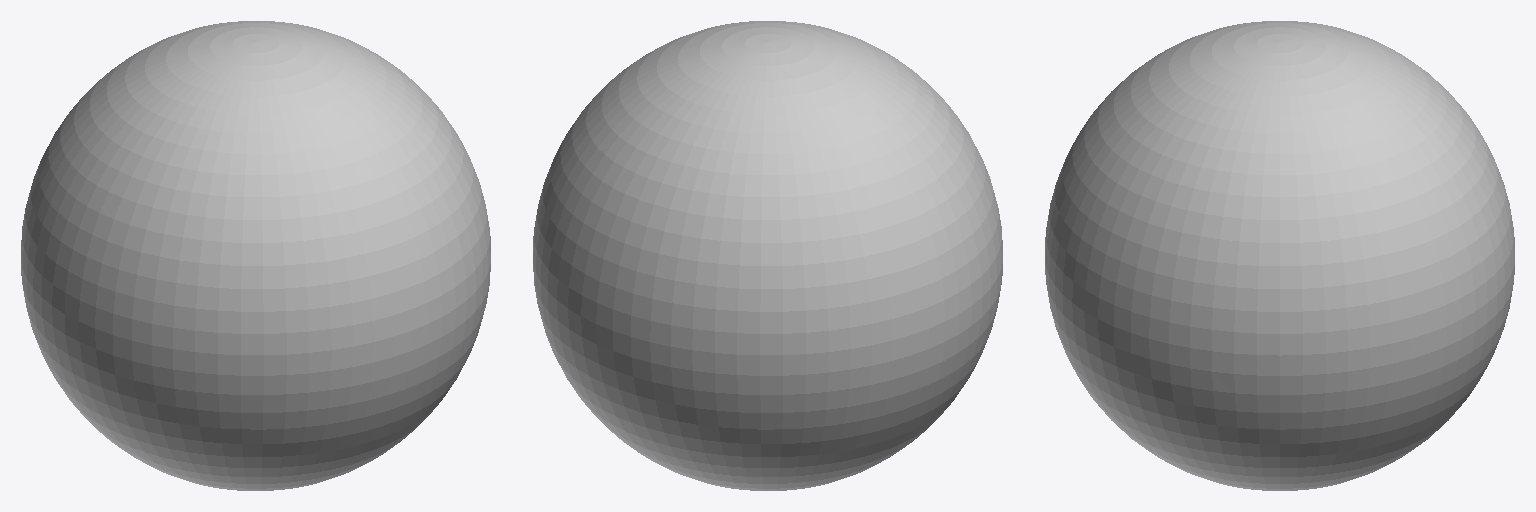
Rendered from earth.obj.
3 views of the same model, side by side, from view 1: azimuth 30°, elevation 25°; view 2: azimuth 150°, elevation 25°; view 3: azimuth 270°, elevation 25° (orthographic).
Visible parts, largest first — view 1: ATM_Sphere.002; view 2: ATM_Sphere.002; view 3: ATM_Sphere.002.
Boxes of the visible parts, box(x1,y1,x2,y2) form: ATM_Sphere.002: box(21, 21, 490, 490); ATM_Sphere.002: box(533, 21, 1002, 490); ATM_Sphere.002: box(1045, 21, 1514, 490).
Bounding box in the file's own units: 2.01 × 2.01 × 2.01.